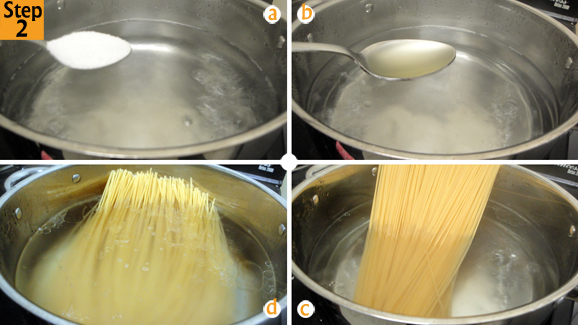plain spaghetti: (336, 159, 490, 306)
